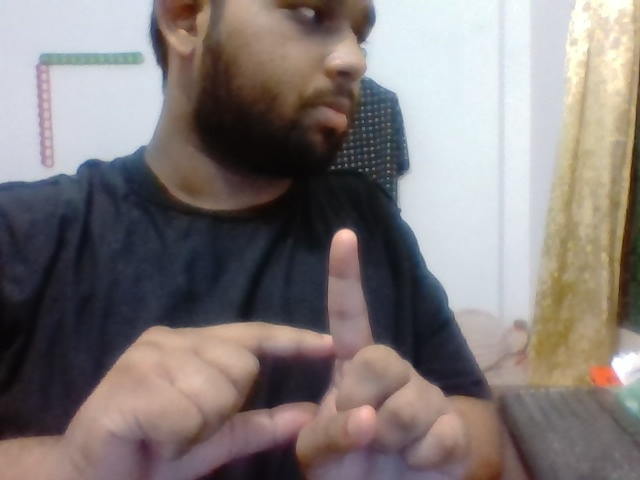D: (103, 216, 481, 480)
